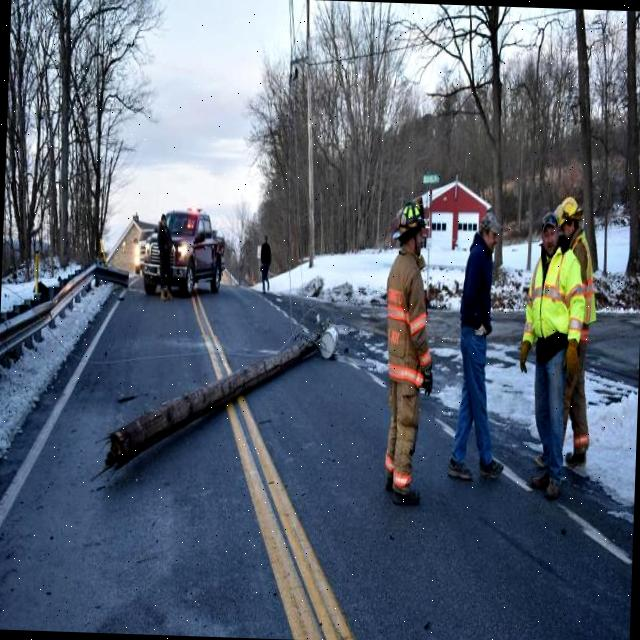Broken Pole: (108, 320, 337, 464)
